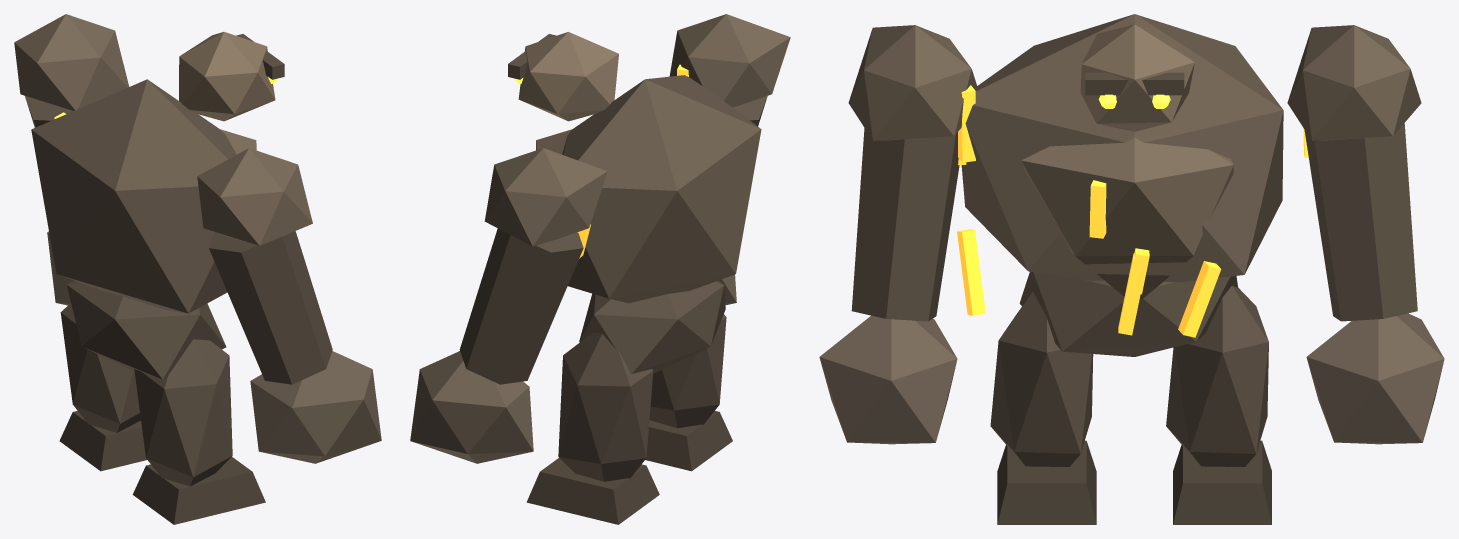
File: titan.glb
3 views of the same model, side by side, from view 1: azimuth 30°, elevation 25°; view 2: azimuth 150°, elevation 25°; view 3: azimuth 270°, elevation 25° (orthographic). The views are drawn at different scales.
Parts seen in each view (by area): view 1: body, arm_r, leg_r, arm_l, leg_l, head; view 2: body, arm_l, leg_l, arm_r, leg_r, head; view 3: body, arm_l, arm_r, leg_l, leg_r, head.
Boxes of the visible parts, <box> form: body: <box>31,79,256,379</box>; arm_r: <box>197,148,381,463</box>; leg_r: <box>132,339,265,524</box>; arm_l: <box>14,14,129,305</box>; leg_l: <box>59,303,146,471</box>; head: <box>179,32,284,121</box>; body: <box>536,64,761,373</box>; arm_l: <box>410,148,607,463</box>; leg_l: <box>526,332,659,524</box>; arm_r: <box>669,14,790,305</box>; leg_r: <box>645,314,732,471</box>; head: <box>508,32,618,121</box>; body: <box>957,14,1308,356</box>; arm_l: <box>1287,25,1444,444</box>; arm_r: <box>819,25,977,444</box>; leg_l: <box>1166,285,1271,524</box>; leg_r: <box>990,291,1096,524</box>; head: <box>1080,24,1194,131</box>.
Bounding box in the file's own units: 2.1 × 4 × 4.42.
